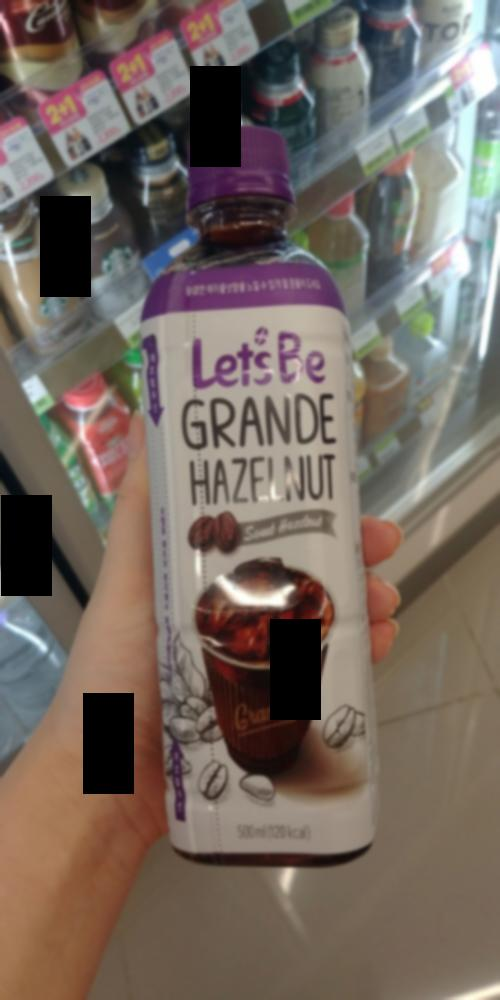letsbe_grande_hazelnut: (121, 108, 404, 881)
